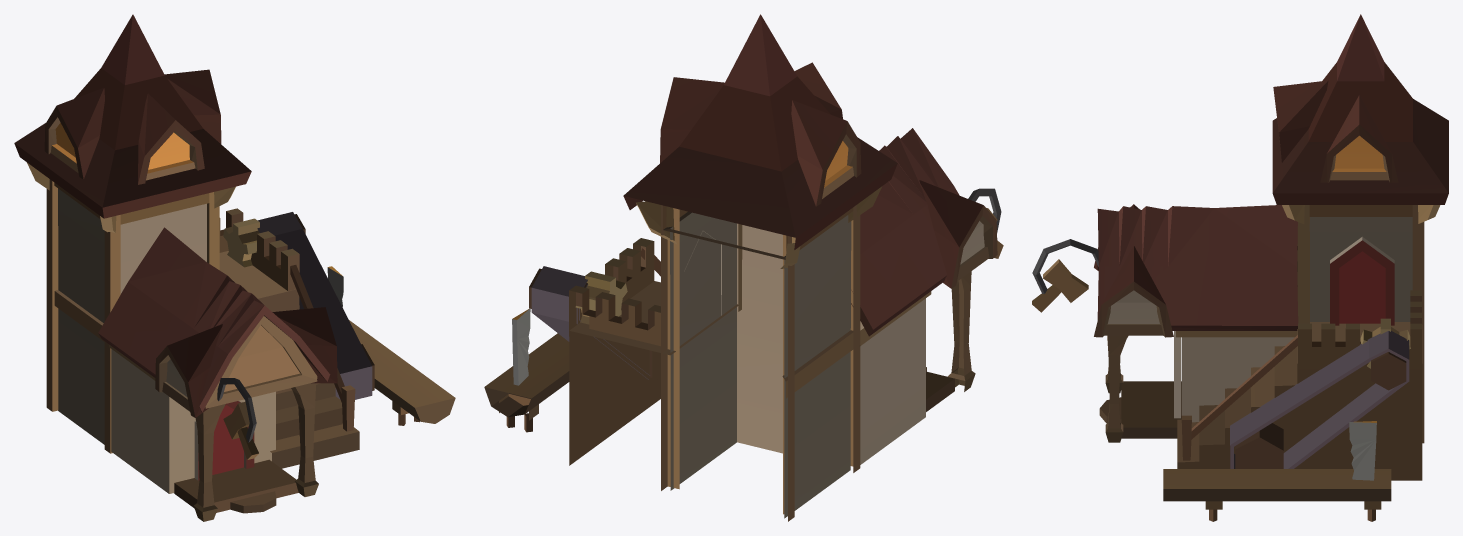
The model's file is building05.fbx.
3 renders of one model, left to right at view 1: azimuth 30°, elevation 25°; view 2: azimuth 150°, elevation 25°; view 3: azimuth 270°, elevation 25°, orthographic. The views are drawn at different scales.
Visible parts, largest first — view 1: building05; view 2: building05; view 3: building05.
Part boxes in pixels (box(x1,y1,x2,y2)): building05: box(14, 14, 455, 521); building05: box(484, 14, 1003, 521); building05: box(1032, 14, 1448, 521).
Size of the model in its own units: 1.78 by 2.27 by 2.13.
Materials: 1 (1 with a texture image).
